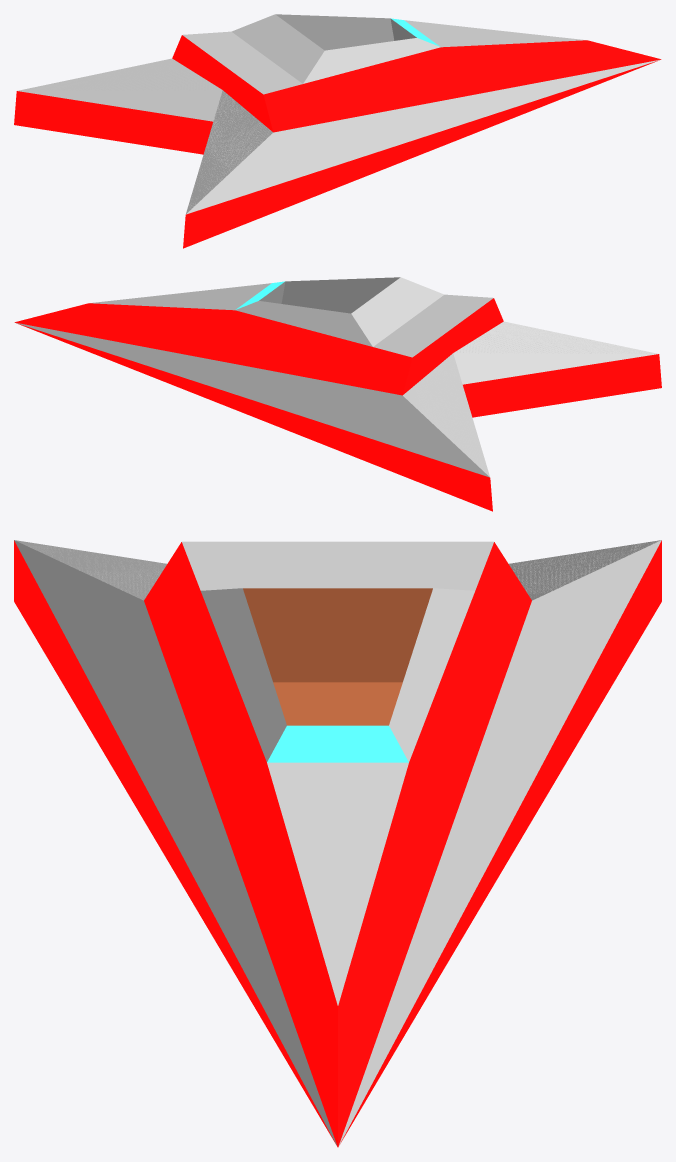
File: SpaceCar.fbx
The picture shows the model from 3 angles, top to bottom: view 1: azimuth 30°, elevation 25°; view 2: azimuth 150°, elevation 25°; view 3: azimuth 270°, elevation 25°; orthographic projection. The views are drawn at different scales.
Visible parts, largest first — view 1: Cube; view 2: Cube; view 3: Cube.
Boxes of the visible parts, bbox=[...] form: Cube: bbox=[14, 14, 661, 248]; Cube: bbox=[14, 277, 661, 511]; Cube: bbox=[14, 540, 661, 1147].
Bounding box in the file's own units: 256 × 50.07 × 133.
